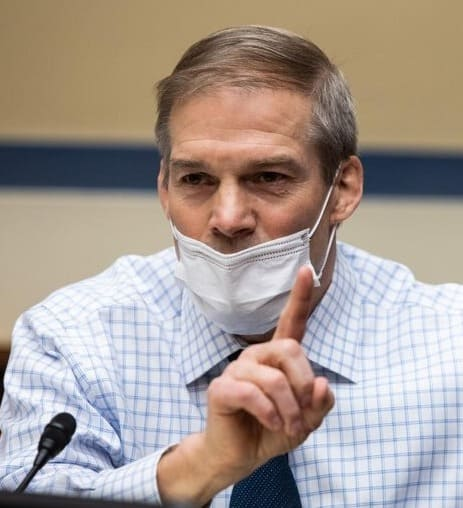with_incorrect_mask: (168, 92, 334, 330)
